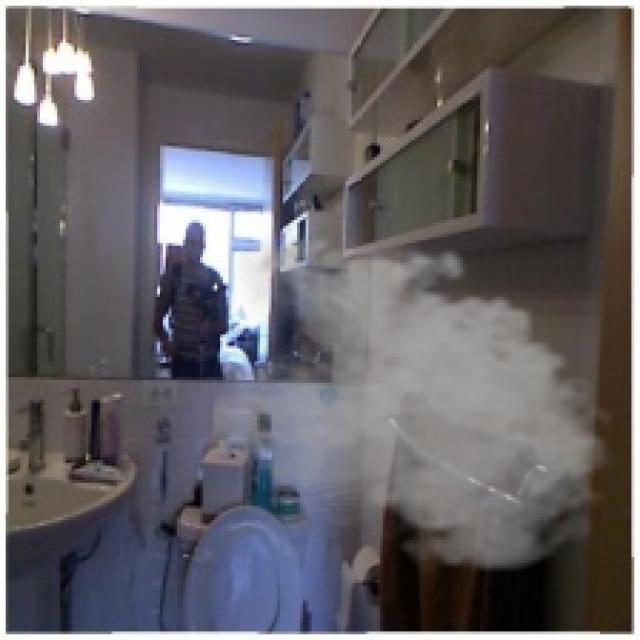Smoke: (208, 225, 623, 580)
